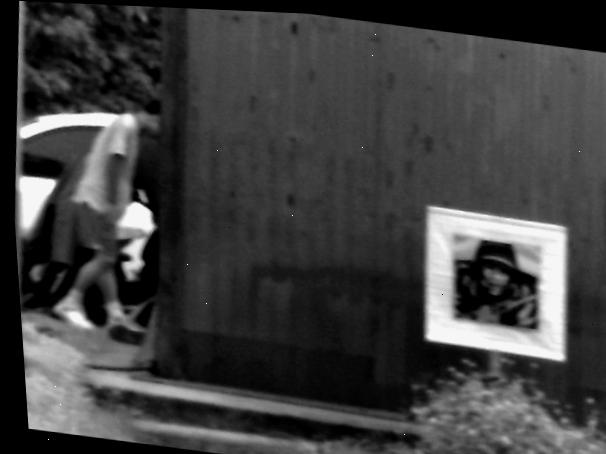bia: (451, 233, 540, 330)
